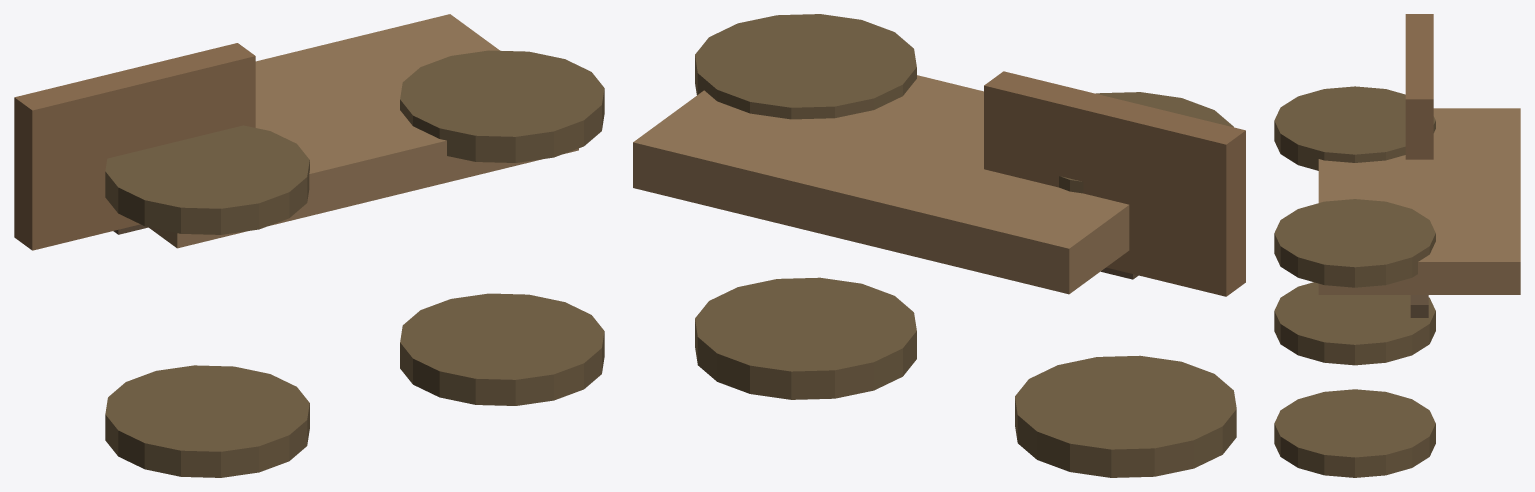
Rendered from cart.glb.
3 renders of one model, left to right at view 1: azimuth 30°, elevation 25°; view 2: azimuth 150°, elevation 25°; view 3: azimuth 270°, elevation 25°, orthographic. The views are drawn at different scales.
Visible parts, largest first — view 1: world; view 2: world; view 3: world.
Boxes of the visible parts, x1=… form: world: x1=14, y1=14, x2=604, y2=477; world: x1=633, y1=14, x2=1245, y2=477; world: x1=1274, y1=14, x2=1520, y2=477.
Size of the model in its own units: 5.9 by 3.59 by 3.05.
